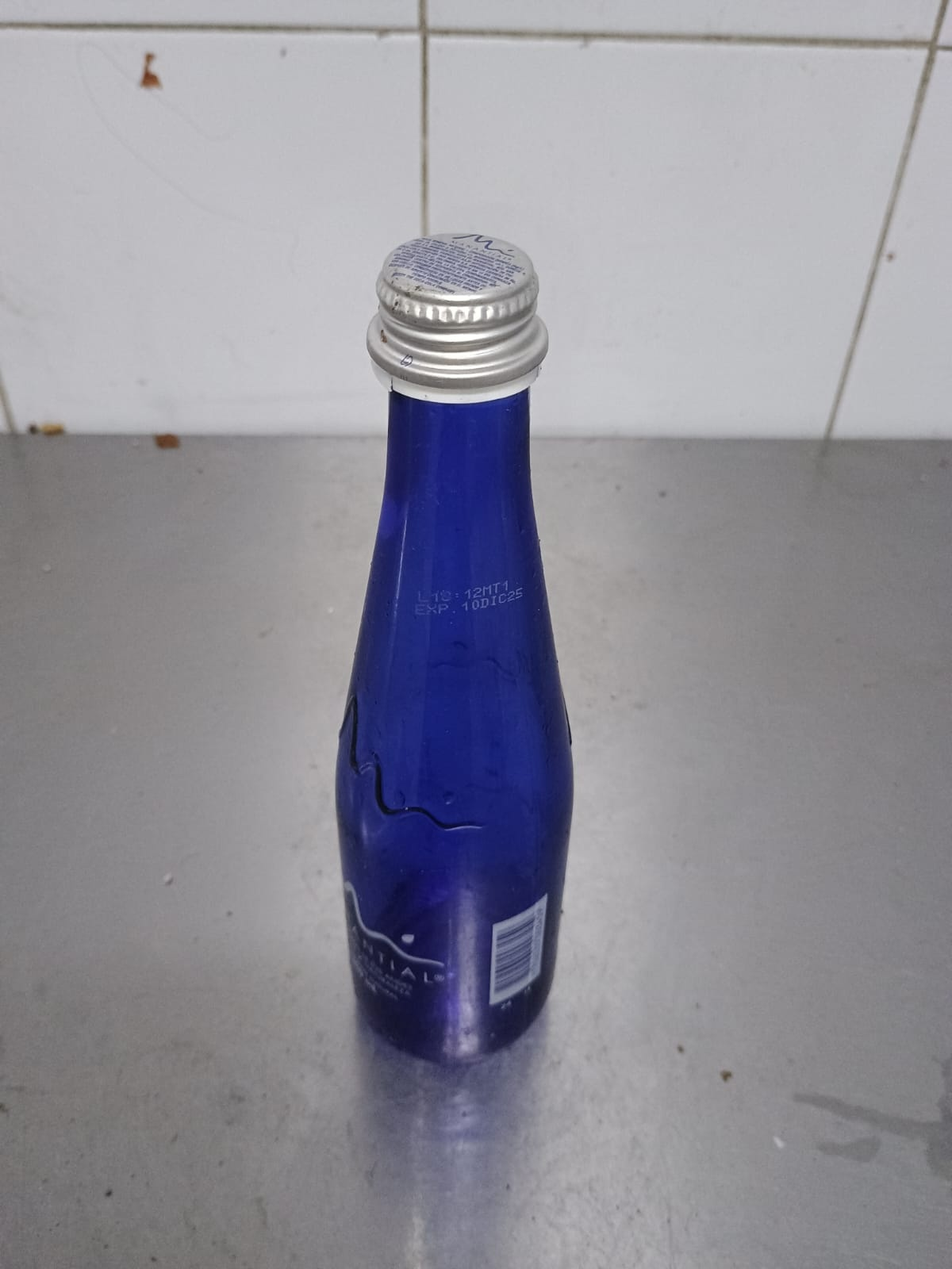Metal: (366, 232, 551, 386)
Vidrio: (336, 391, 575, 1062)
